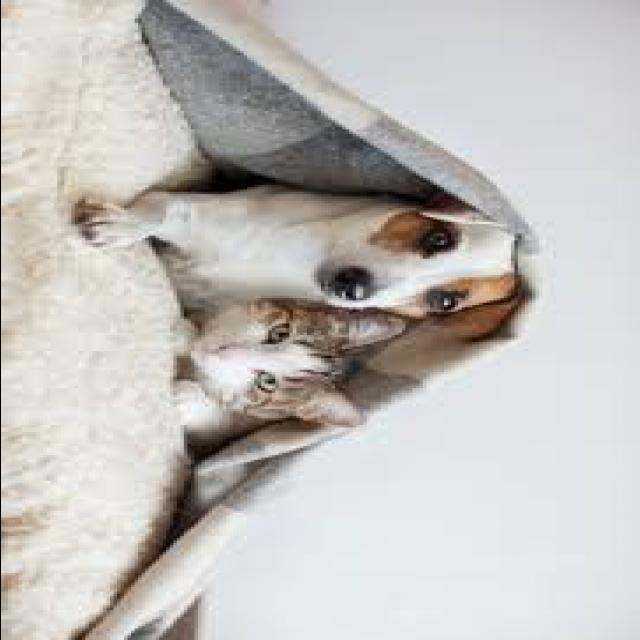cat: (152, 306, 410, 436)
dog: (62, 192, 568, 322)
